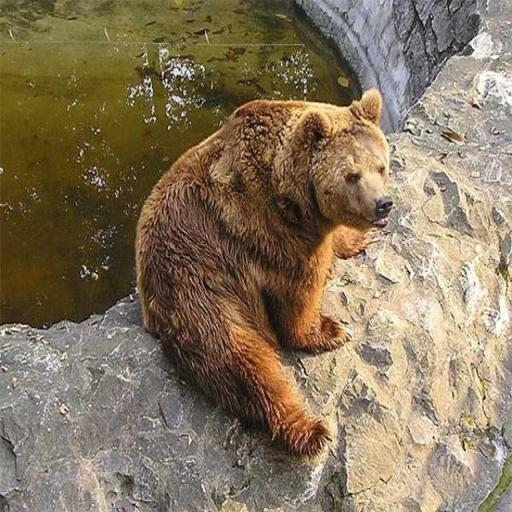Bear: (134, 87, 394, 457)
